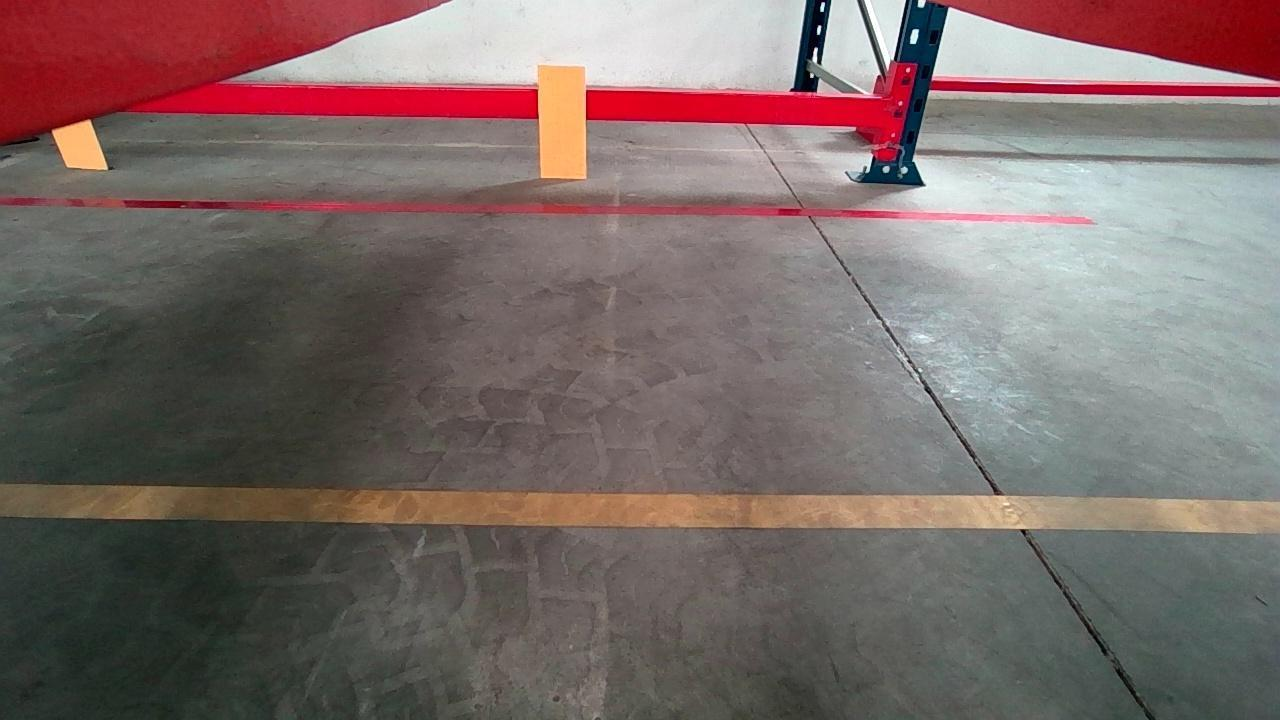h_rack: (119, 81, 888, 126)
orange_strip: (540, 62, 587, 177), (51, 119, 105, 167)
red_line: (0, 191, 1096, 224)
